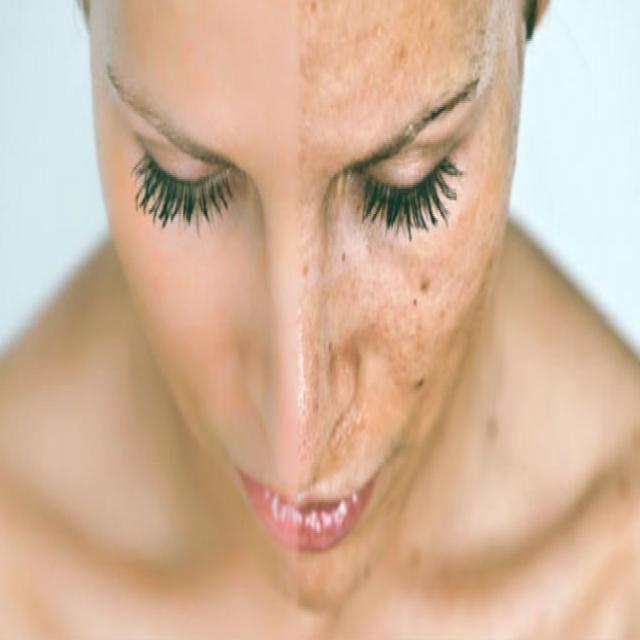Dark-Spots: (296, 2, 526, 634)
